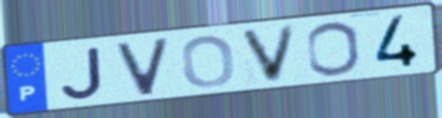4: (372, 13, 422, 71)
J: (59, 45, 106, 101)
O: (304, 19, 364, 77), (179, 33, 237, 90)
V: (236, 22, 300, 85), (113, 35, 172, 98)
